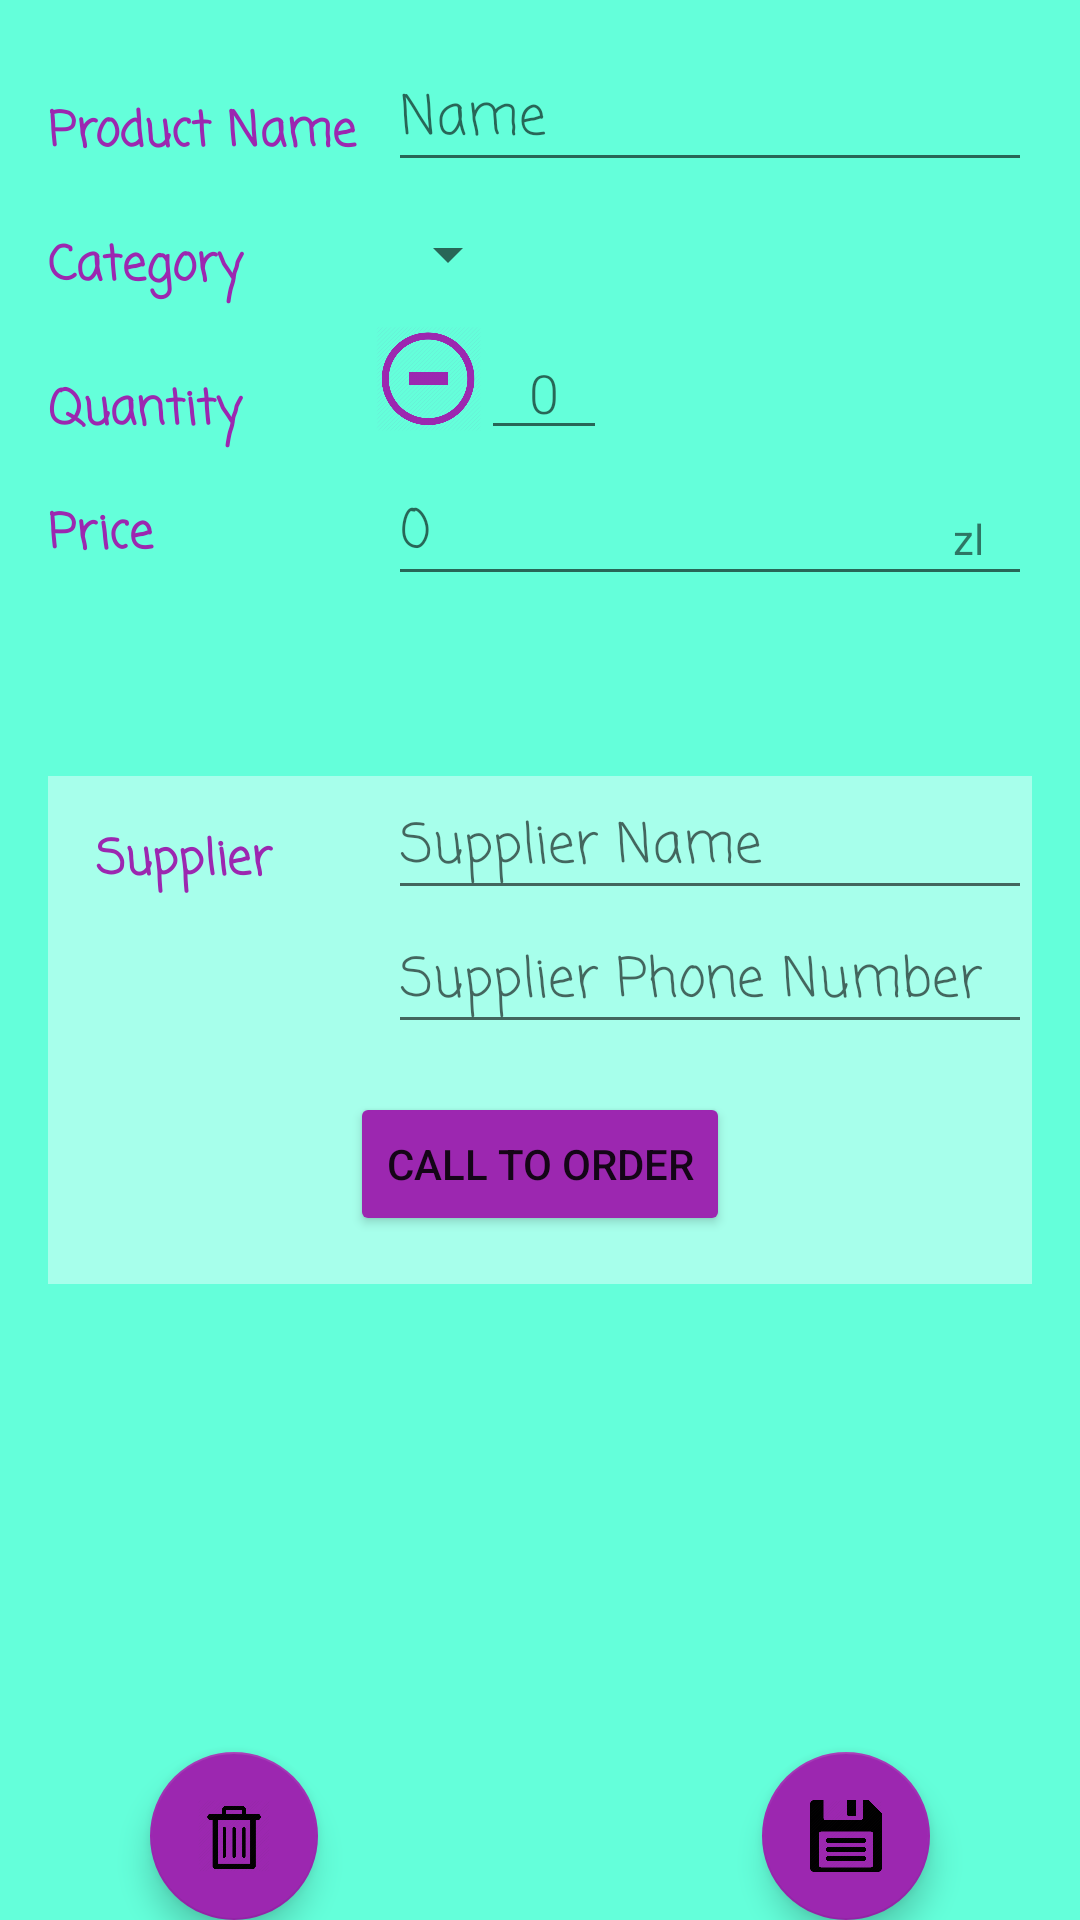

Icons on this 1080 x 1920 Android screen, each with the point to tap as [x,y]:
Delete: [234,1836]
Minus Button: [428,378]
Save: [846,1836]
